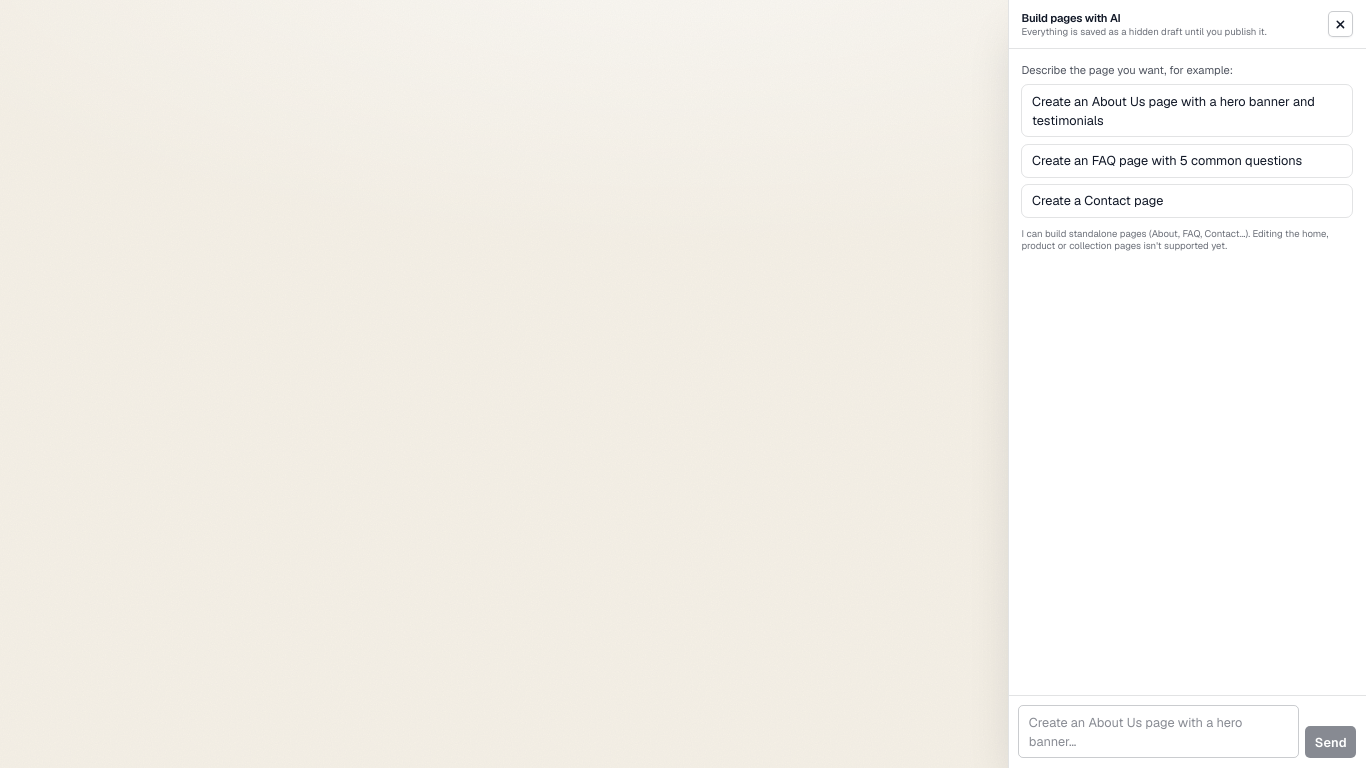
Test: AiPageBuilderPanel › shows the reply with Preview, Publish and Discard for each draft page
This screenshot has width=1366, height=768.
Type "make an about page" into the text box named "Your request".
click(1158, 732); type("make an about page")  # box top-left (1018, 705), bottom-right (1299, 758)
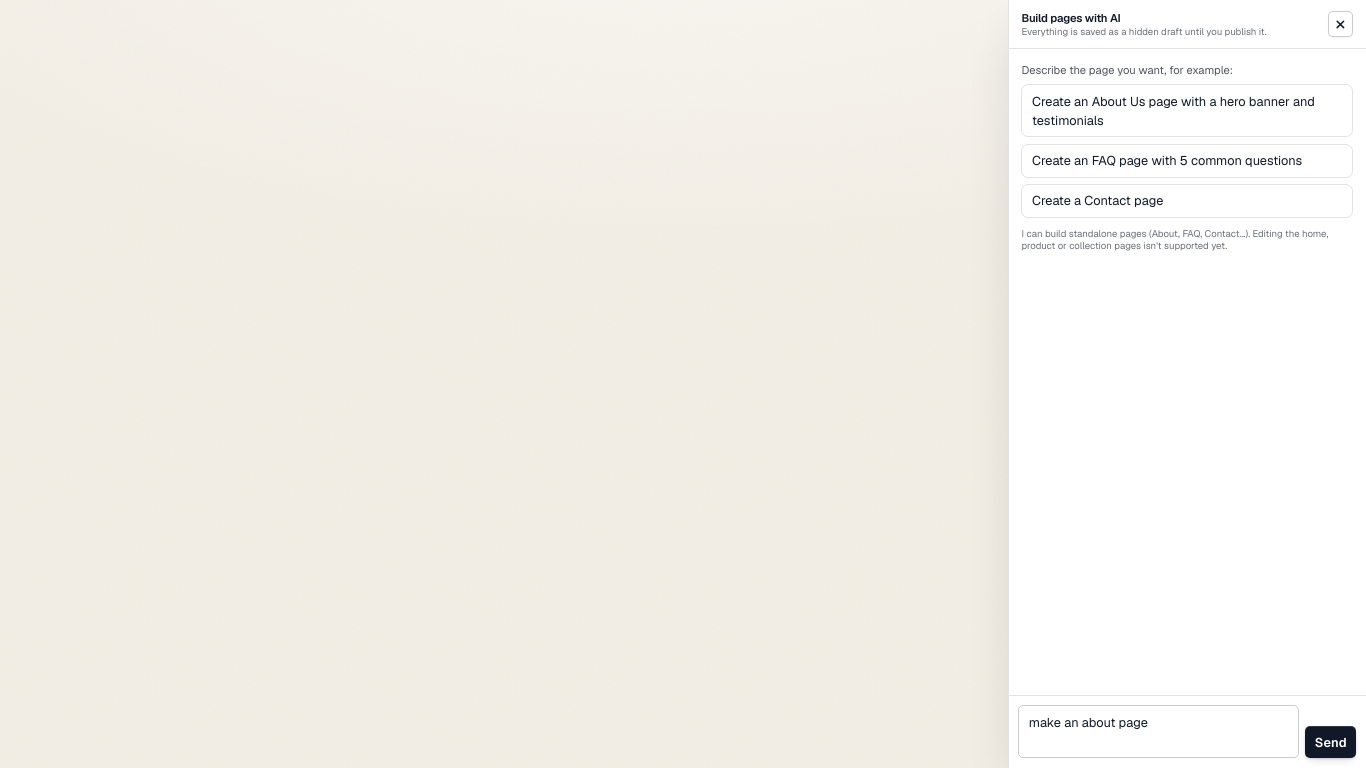
Click the button "Send".
click(1331, 742)  # box top-left (1305, 726), bottom-right (1356, 758)
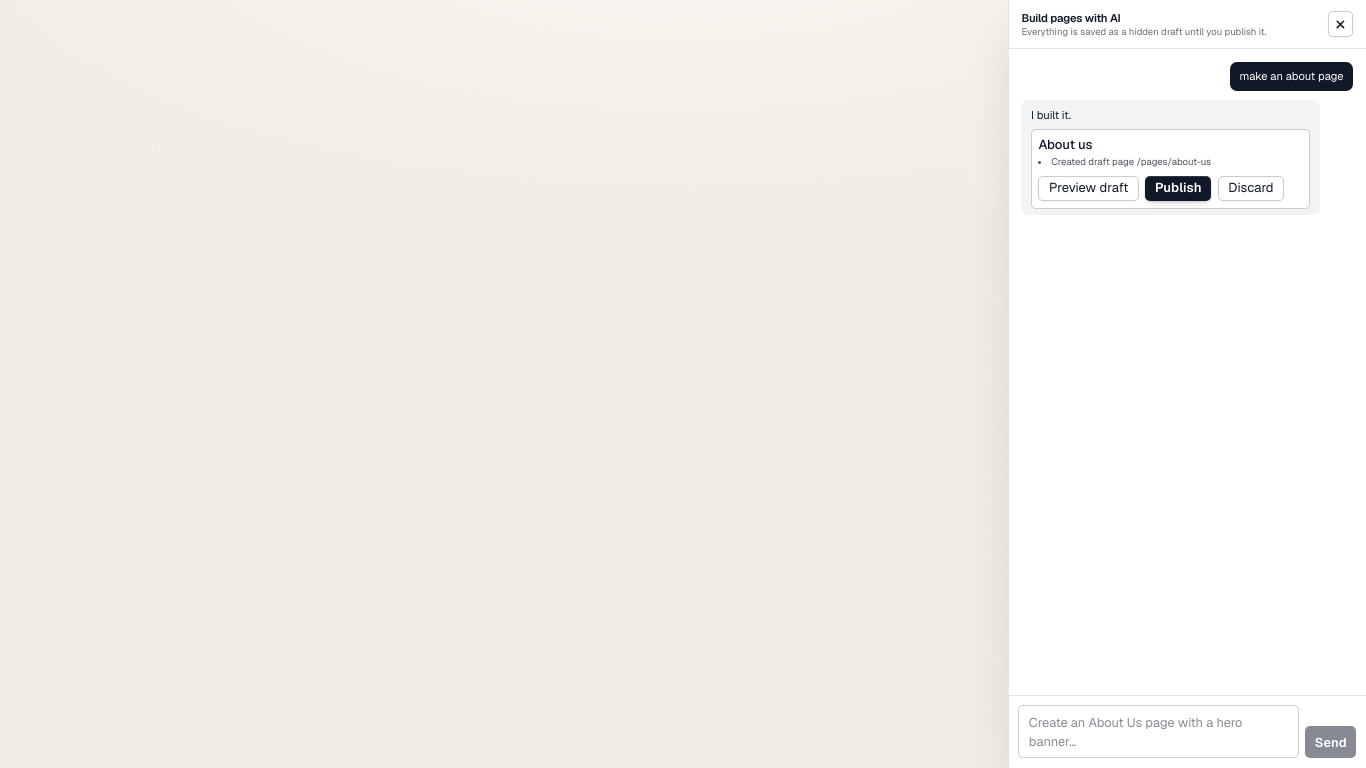
expect the text "I built it." is shown: met, box top-left (1031, 108), bottom-right (1071, 122)
expect the button "Preview draft" is shown: met, box top-left (1038, 176), bottom-right (1139, 201)
expect the button "Publish" is shown: met, box top-left (1145, 176), bottom-right (1211, 201)
